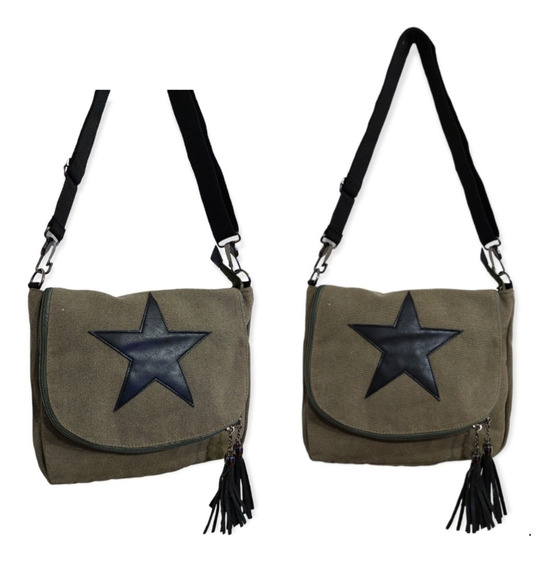cartera: (297, 29, 516, 466), (29, 89, 255, 487)
